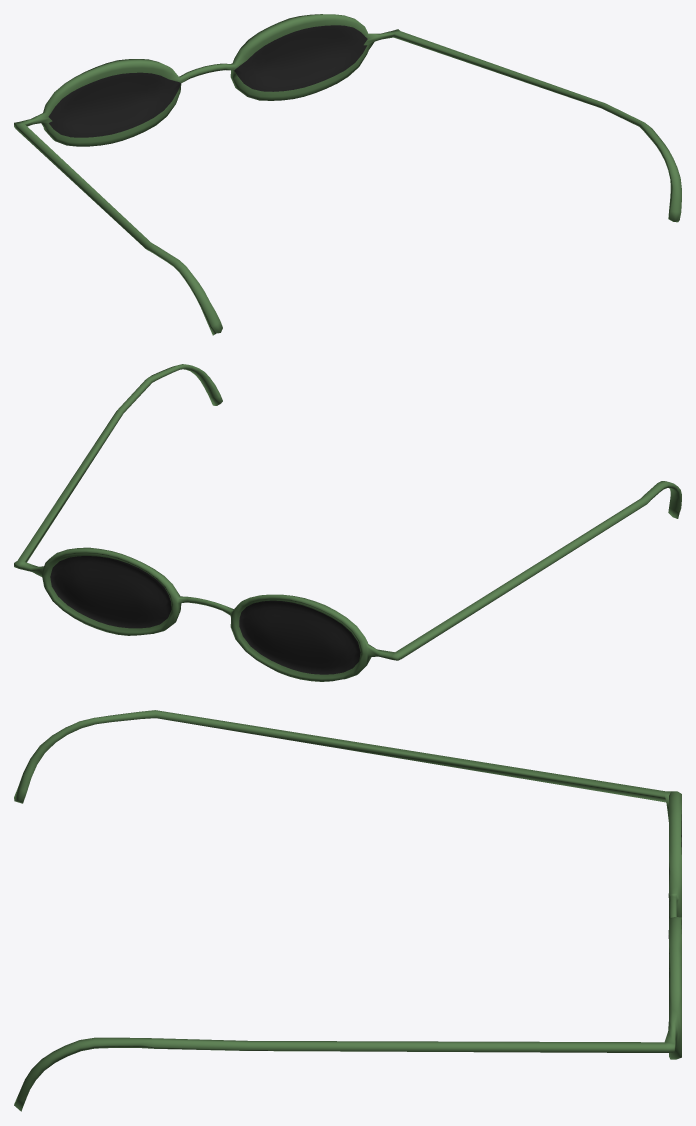
File: Neo Sunglasses.fbx
3 views of the same model, one above another, from view 1: azimuth 30°, elevation 25°; view 2: azimuth 150°, elevation 25°; view 3: azimuth 270°, elevation 25° (orthographic). The views are drawn at different scales.
Visible parts, largest first — view 1: Neo Glasses Lo; view 2: Neo Glasses Lo; view 3: Neo Glasses Lo.
Boxes of the visible parts, x1,y1,x2,y2 form: Neo Glasses Lo: (14, 14, 681, 335); Neo Glasses Lo: (14, 364, 681, 681); Neo Glasses Lo: (14, 710, 681, 1111).
Size of the model in its own units: 226 by 33.99 by 190.
